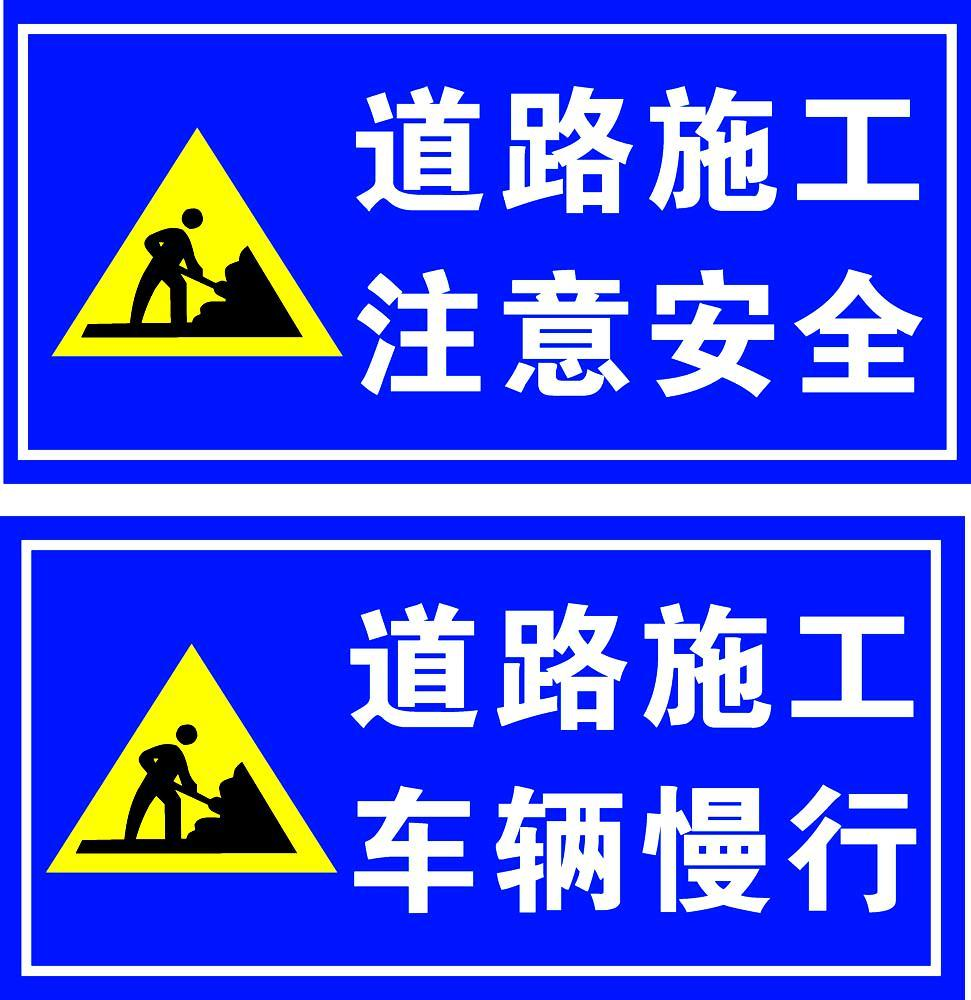sign: (9, 9, 958, 465), (10, 531, 952, 985)
